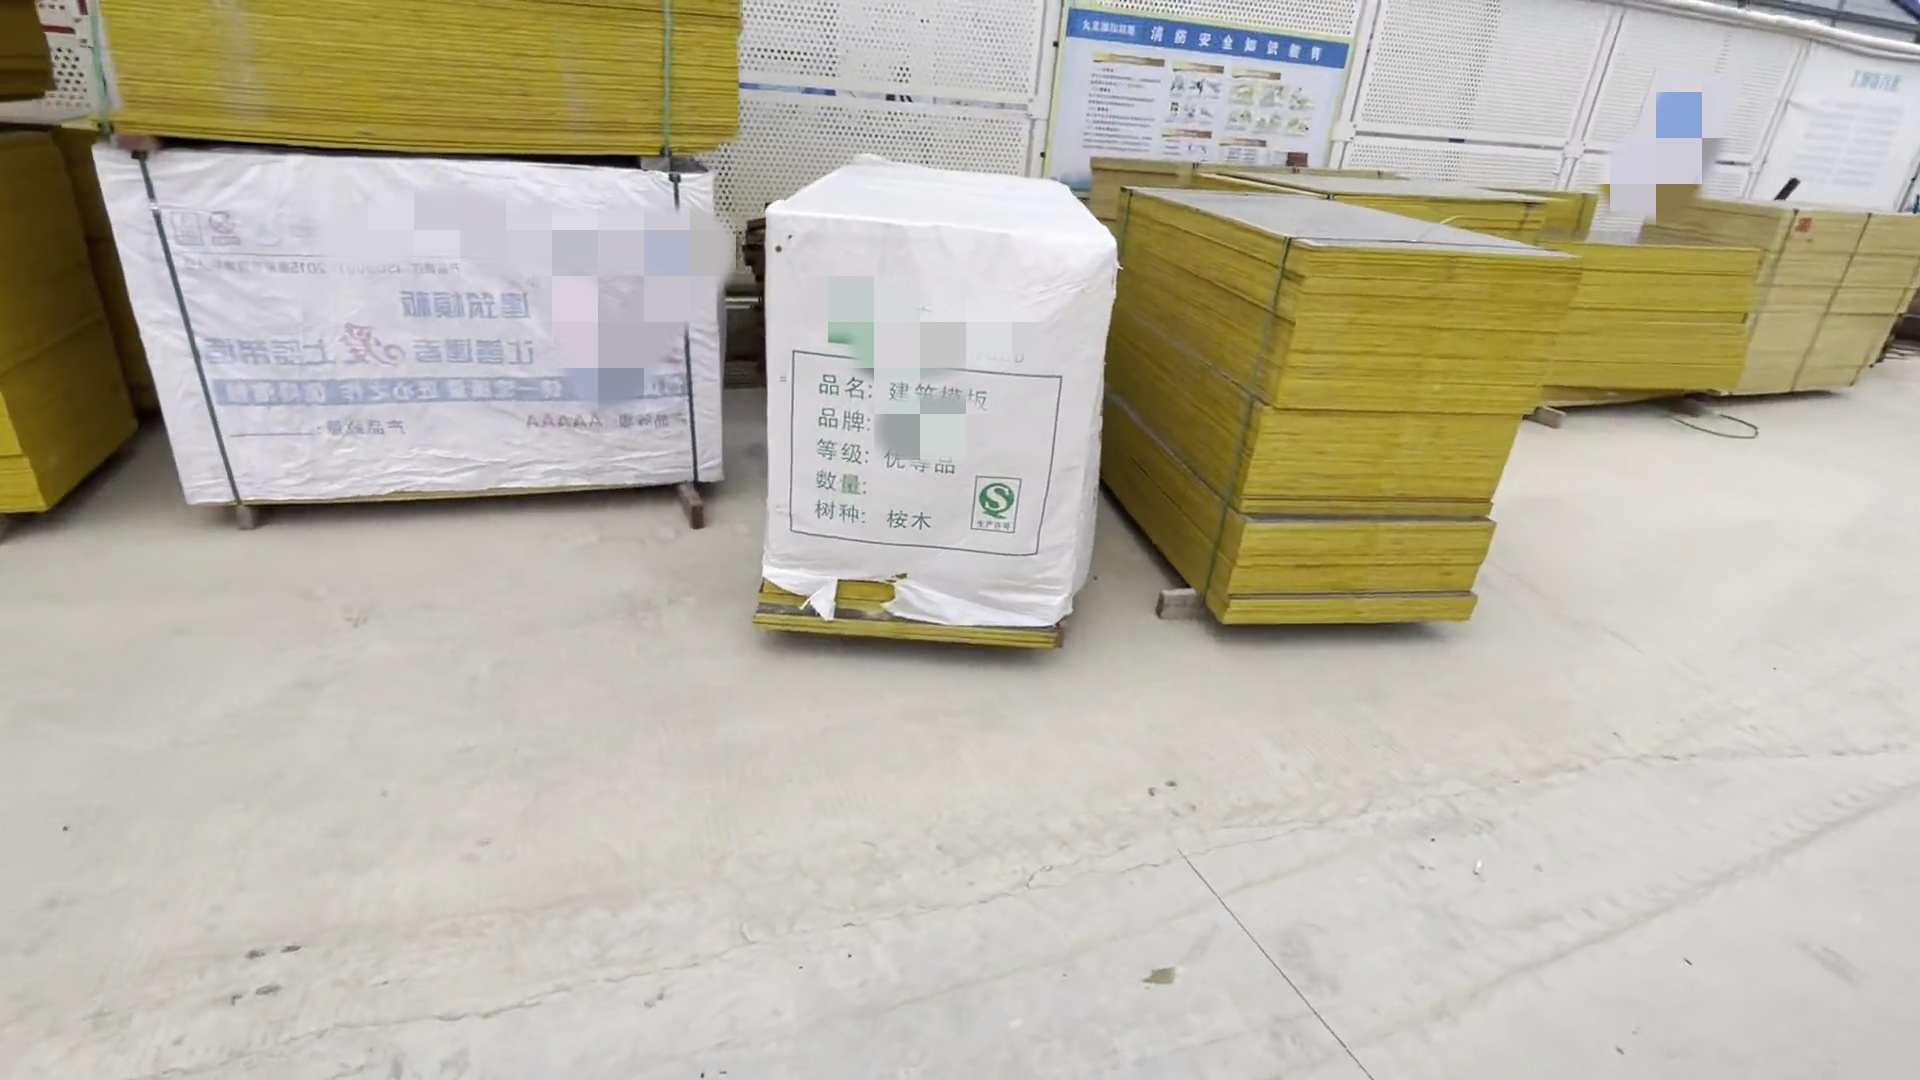board: (1135, 171, 1552, 662), (82, 7, 758, 177), (1582, 193, 1920, 440)
